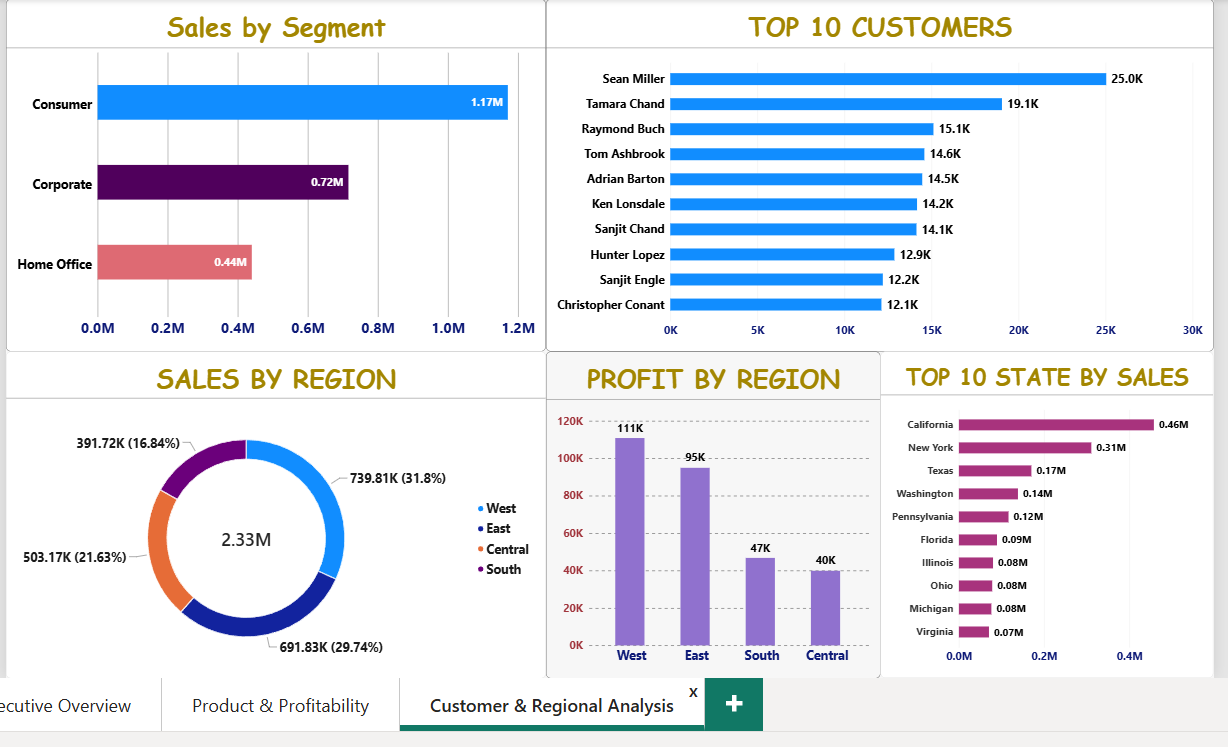

What the dashboard file says about the page in this screenshot:
{"tool":"powerbi","page":{"name":"Customer & Regional Analysis","canvas":[1920,1080],"ordinal":2},"visuals":[{"type":"barChart","title":"TOP 10 CUSTOMERS","fields":{"Category":["superstore_cleaned.Customer Name"],"Y":["Sum(superstore_cleaned.Sales)"]},"box":[858.9,0,1061.7,560.7],"z":0},{"type":"barChart","title":"Sales by Segment","fields":{"Category":["superstore_cleaned.Segment"],"Y":["Sum(superstore_cleaned.Sales)"]},"box":[0,0,858.9,560.7],"z":1000},{"type":"donutChart","title":"SALES BY REGION","fields":{"Category":["superstore_cleaned.Region"],"Y":["Sum(superstore_cleaned.Sales)"]},"box":[0,560.7,858.9,520.1],"z":2000},{"type":"columnChart","title":"PROFIT BY REGION","fields":{"Category":["superstore_cleaned.Region"],"Y":["Sum(superstore_cleaned.Profit)"]},"box":[858.9,560.7,532.1,520.1],"z":3000},{"type":"barChart","title":"TOP 10 STATE BY SALES","fields":{"Category":["superstore_cleaned.State/Province"],"Y":["Sum(superstore_cleaned.Sales)"]},"box":[1391,561,529,519],"z":4000}]}

Visuals, with their boxes on the page's 1920x1080 design canvas (x1, y1, x2, y2). These are canvas units, not pixel positions in the 1228x747 screenshot, which may show the page scaled, cropped or inside an application window:
"TOP 10 CUSTOMERS" barChart: [859,0,1921,561]
"Sales by Segment" barChart: [0,0,859,561]
"SALES BY REGION" donutChart: [0,561,859,1081]
"PROFIT BY REGION" columnChart: [859,561,1391,1081]
"TOP 10 STATE BY SALES" barChart: [1391,561,1920,1080]
